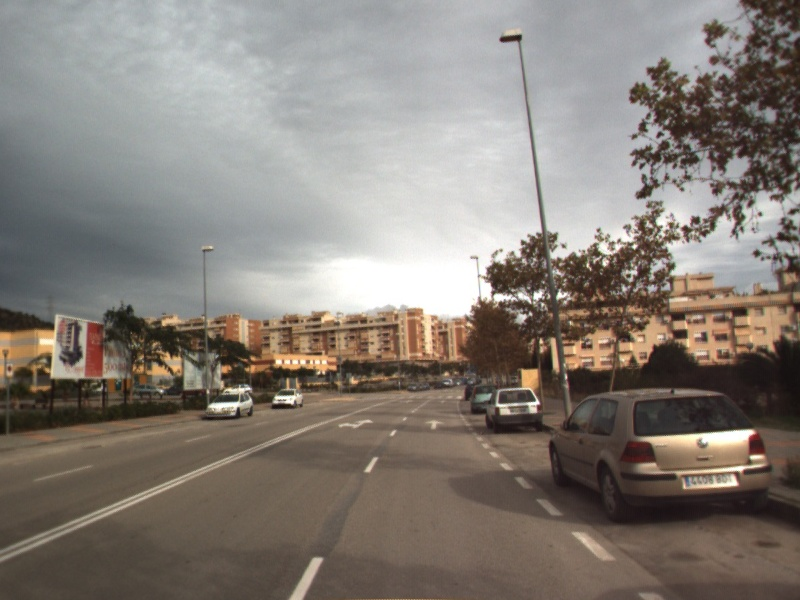STRAIGHT: (423, 417, 447, 431)
STRAIGHT_LEFT: (336, 416, 376, 431)
